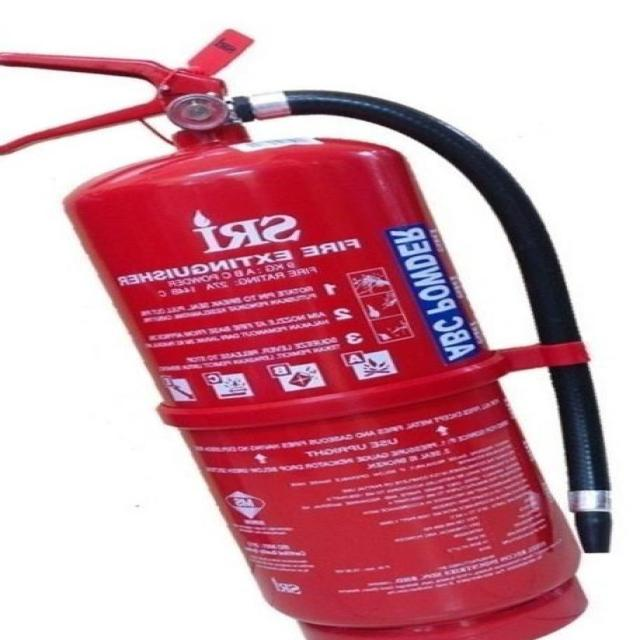fire_extinguisher: (0, 21, 622, 639)
